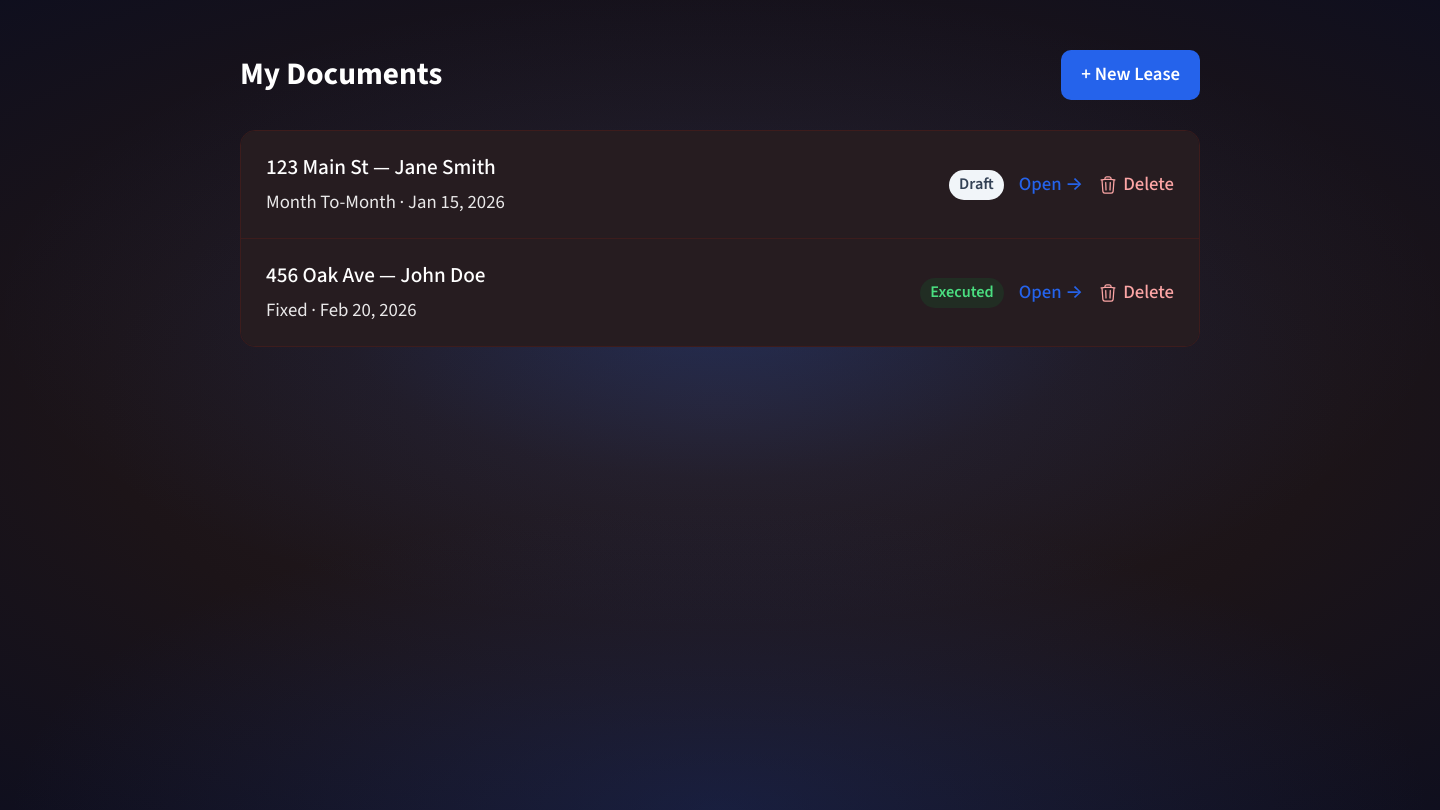
MyDocuments page › asks for confirmation before deleting
The image size is (1440, 810).
Step 1. Click the button "Delete" in the row of "draft" → {"x": 1136, "y": 184}, box x1=1098 y1=170 x2=1174 y2=200
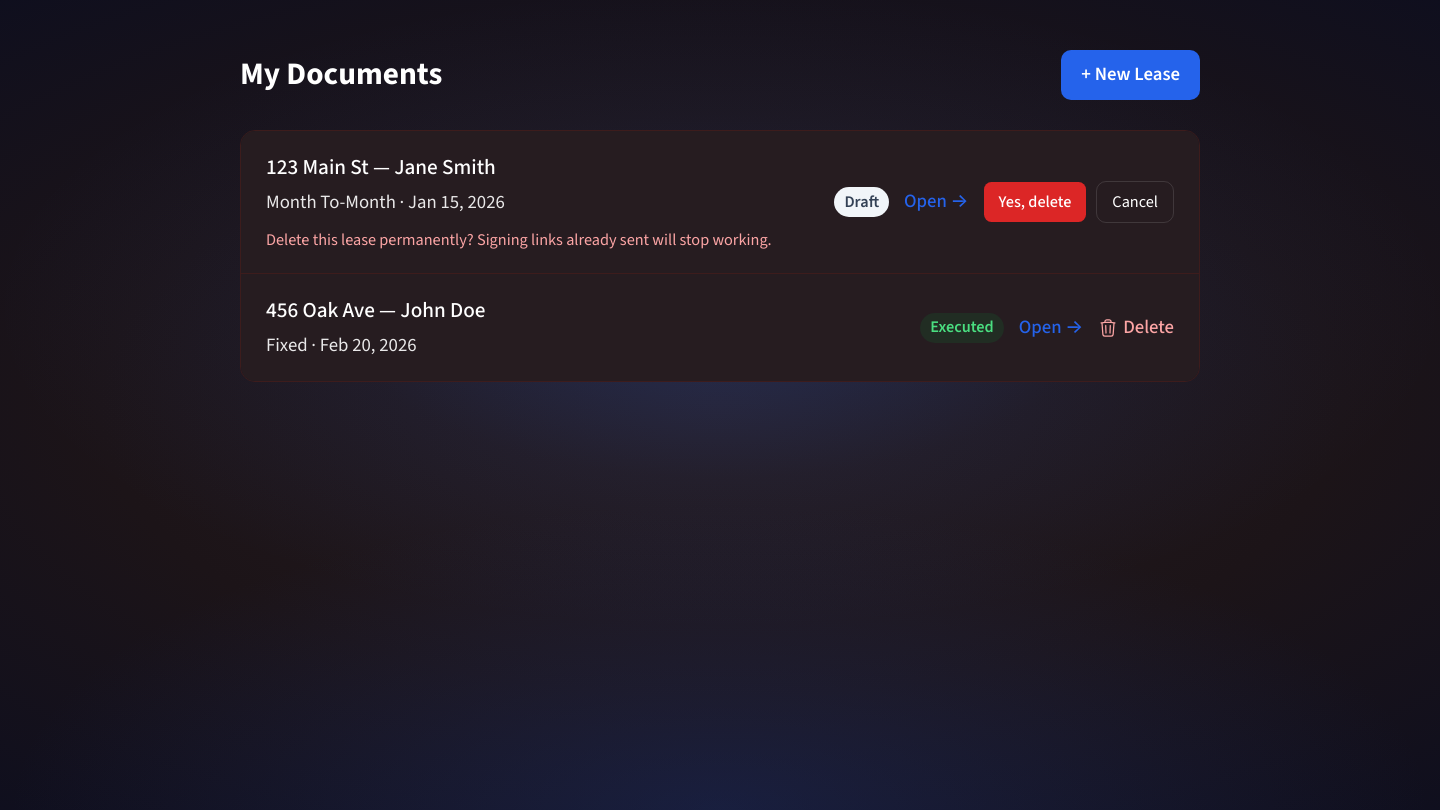
Expected: the text "Delete this lease permanently" is shown, x1=266 y1=228 x2=772 y2=252
Expected: the button "Yes, delete" is shown, x1=984 y1=182 x2=1086 y2=222
